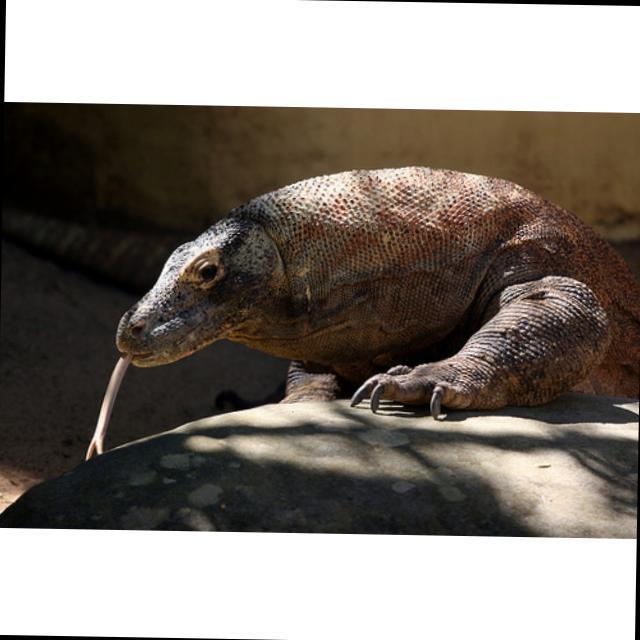KomodoDragon: (85, 158, 640, 472)
